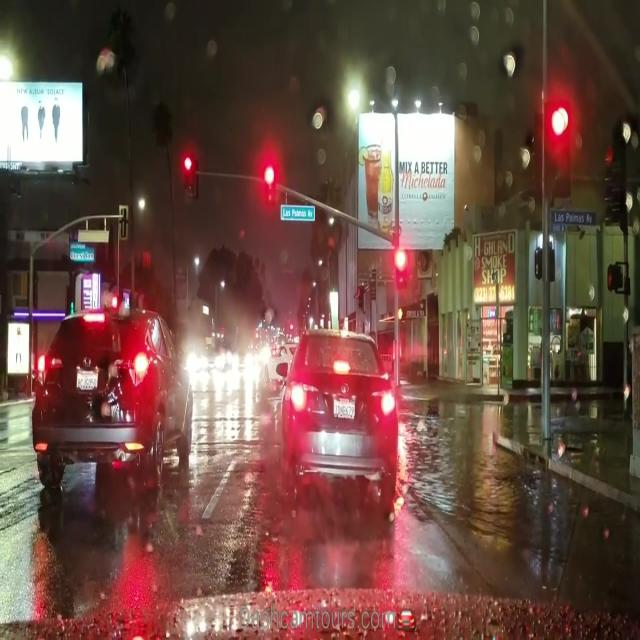Car: (32, 313, 193, 476), (277, 336, 396, 491)
